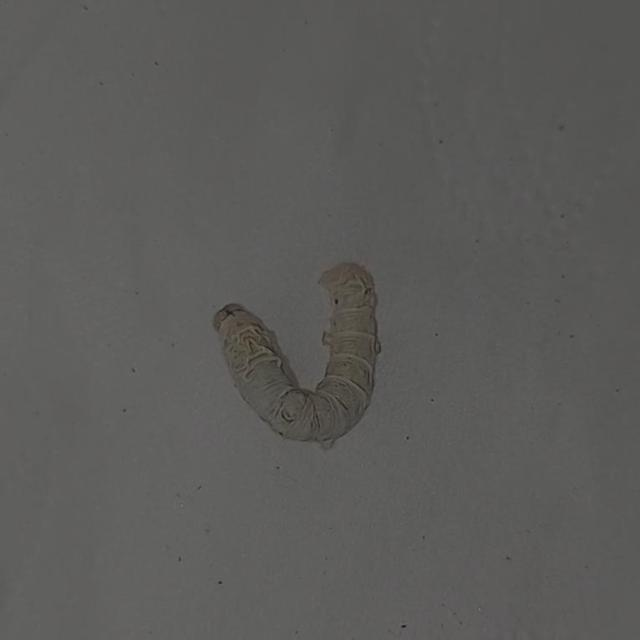Healthy: (195, 233, 442, 485)
